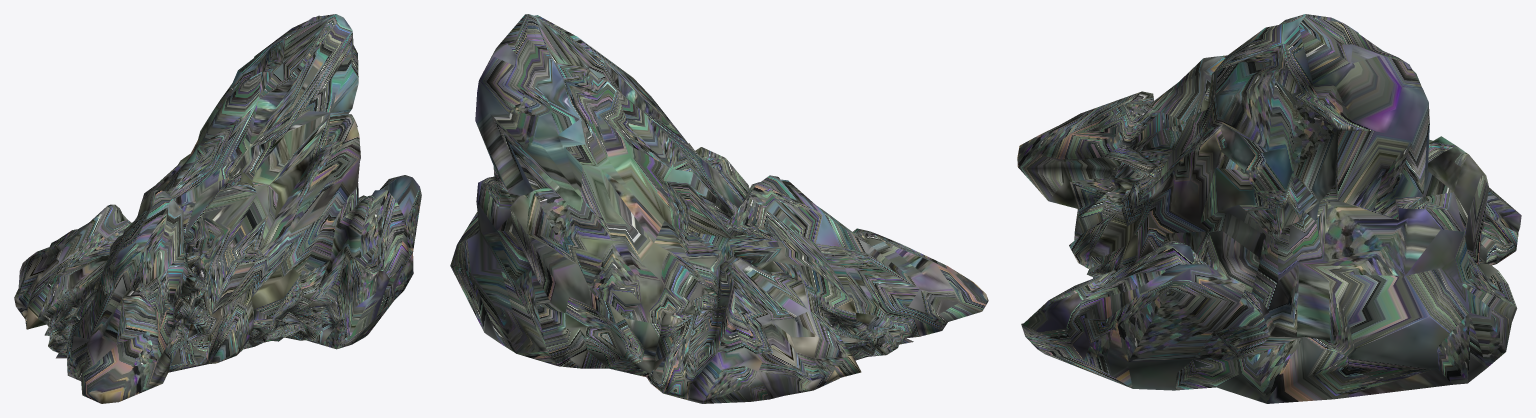
Rendered from Prismatic_Peaks.glb.
3 views of the same model, side by side, from view 1: azimuth 30°, elevation 25°; view 2: azimuth 150°, elevation 25°; view 3: azimuth 270°, elevation 25° (orthographic). The views are drawn at different scales.
Visible parts, largest first — view 1: Prismatic_Peaks; view 2: Prismatic_Peaks; view 3: Prismatic_Peaks.
Boxes of the visible parts, box(x1,y1,x2,y2) form: Prismatic_Peaks: box(14, 14, 421, 403); Prismatic_Peaks: box(450, 14, 988, 403); Prismatic_Peaks: box(1017, 14, 1521, 403).
Size of the model in its own units: 1.9 by 1.2 by 1.45.
1 material, 1 textured.
